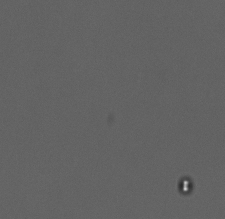Living Cell: (178, 177, 195, 194)
